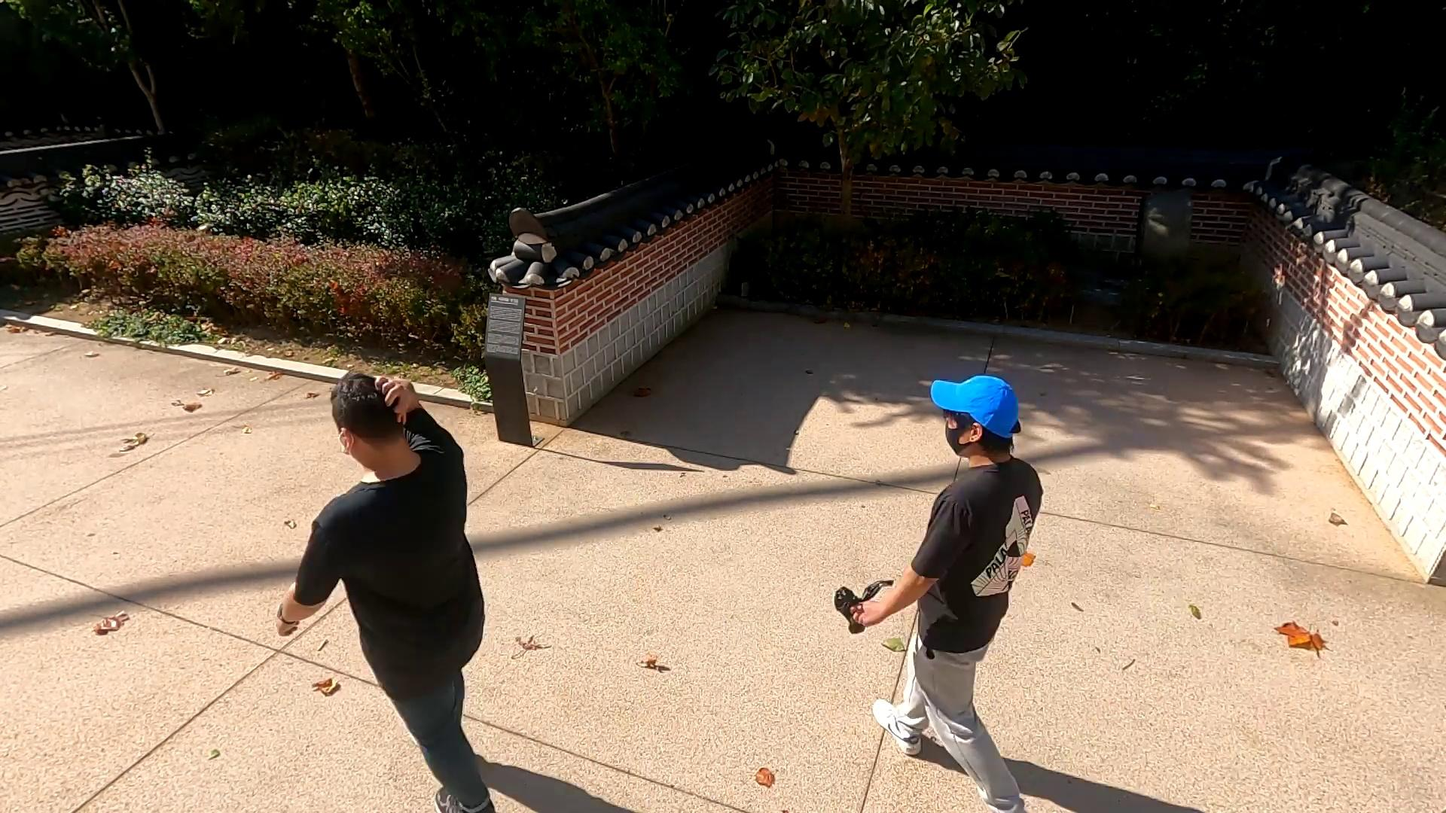person: (274, 372, 496, 813), (848, 374, 1043, 813)
trash: (832, 579, 891, 634)
